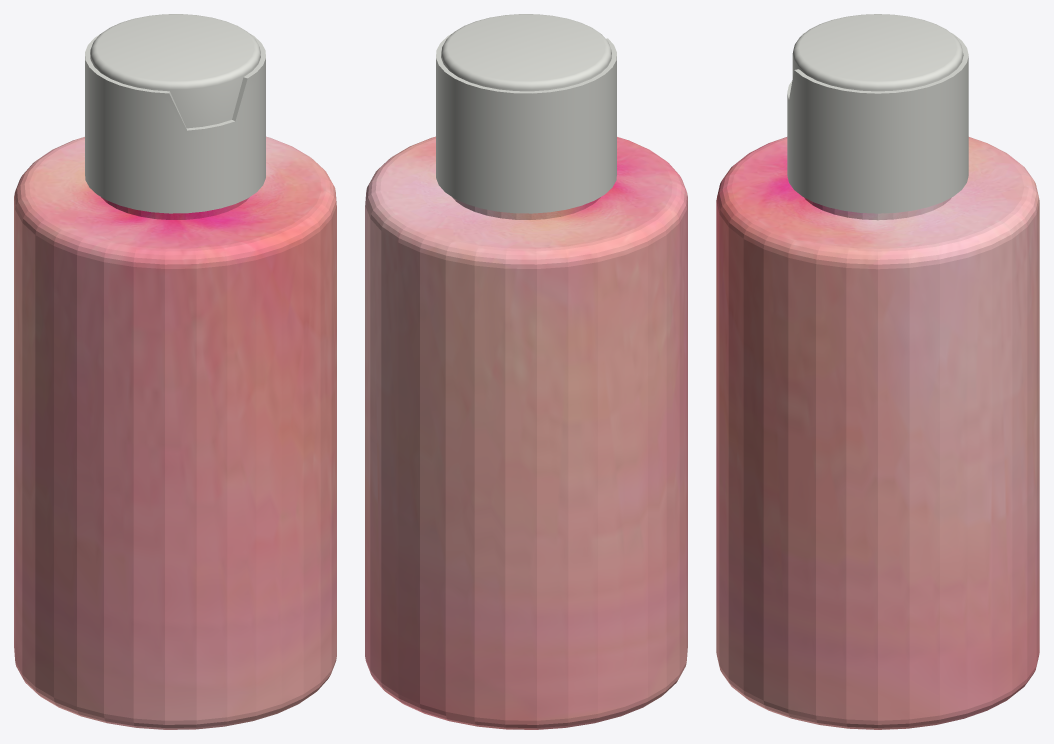
The model's file is Roll On.glb.
3 renders of one model, left to right at view 1: azimuth 30°, elevation 25°; view 2: azimuth 150°, elevation 25°; view 3: azimuth 270°, elevation 25°, orthographic.
Parts seen in each view (by area): view 1: Circle, Circle.001, Cylinder; view 2: Circle, Circle.001, Cylinder; view 3: Circle, Circle.001, Cylinder.
Part boxes in pixels (left/top/right/bottom): Circle: left=14, top=136, right=336, bottom=729; Circle.001: left=85, top=33, right=265, bottom=213; Cylinder: left=90, top=14, right=260, bottom=128; Circle: left=365, top=136, right=687, bottom=729; Circle.001: left=436, top=33, right=616, bottom=213; Cylinder: left=441, top=14, right=611, bottom=91; Circle: left=716, top=137, right=1039, bottom=729; Circle.001: left=787, top=32, right=968, bottom=213; Cylinder: left=792, top=14, right=963, bottom=91.
Bounding box in the file's own units: 2.44 × 5.16 × 2.44.
3 materials, 3 textured.
